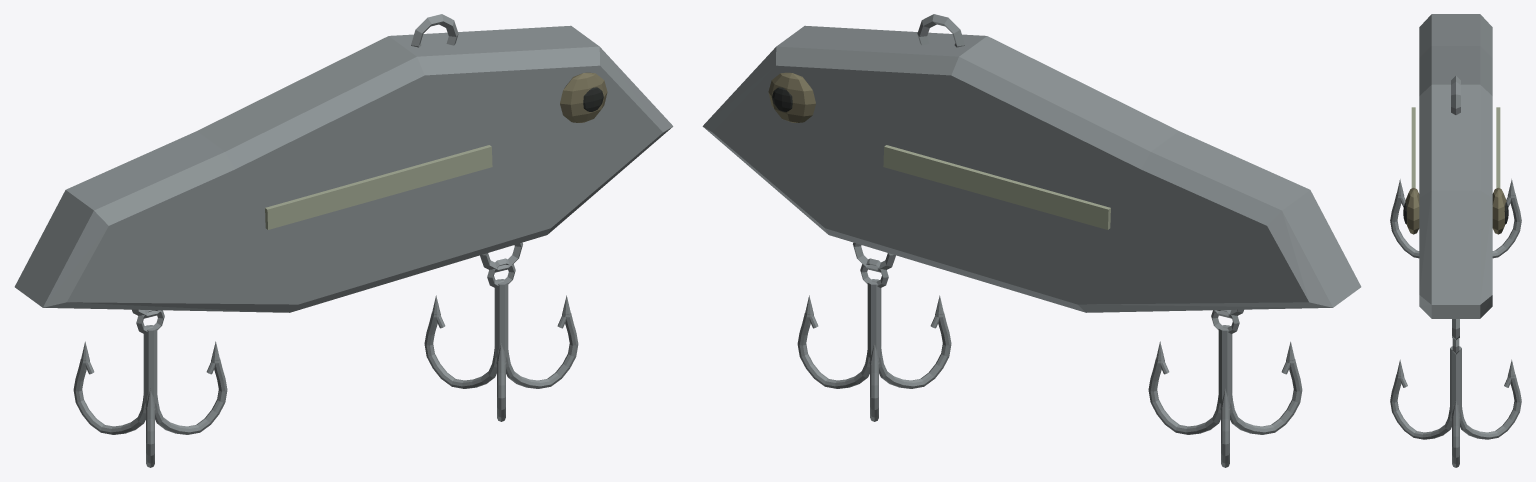
File: bait-lv3.glb
The picture shows the model from 3 angles, left to right: view 1: azimuth 30°, elevation 25°; view 2: azimuth 150°, elevation 25°; view 3: azimuth 270°, elevation 25°; orthographic projection. The views are drawn at different scales.
Visible parts, largest first — view 1: Metal_Vibration_Lure, Dormant_Luminous_Inlay, Hook_Bend (×4), Common_Shank (×2), Eye_Right, Dorsal_Line_Eye; view 2: Metal_Vibration_Lure, Dormant_Luminous_Inlay, Hook_Bend (×4), Common_Shank (×2), Eye_Left, Dorsal_Line_Eye; view 3: Metal_Vibration_Lure, Hook_Bend (×5), Dormant_Luminous_Inlay (×2), Common_Shank, Eye_Left, Eye_Right, Dorsal_Line_Eye, Belly_Treble_Split_Ring.
Boxes of the visible parts, x1=… form: Metal_Vibration_Lure: x1=14, y1=25, x2=673, y2=312; Dormant_Luminous_Inlay: x1=265, y1=145, x2=492, y2=229; Hook_Bend (×4): x1=73, y1=313, x2=578, y2=434; Common_Shank (×2): x1=143, y1=279, x2=508, y2=403; Eye_Right: x1=560, y1=72, x2=607, y2=122; Dorsal_Line_Eye: x1=411, y1=14, x2=458, y2=47; Metal_Vibration_Lure: x1=702, y1=25, x2=1361, y2=312; Dormant_Luminous_Inlay: x1=883, y1=145, x2=1110, y2=229; Hook_Bend (×4): x1=797, y1=313, x2=1302, y2=434; Common_Shank (×2): x1=867, y1=279, x2=1232, y2=403; Eye_Left: x1=768, y1=72, x2=815, y2=122; Dorsal_Line_Eye: x1=917, y1=14, x2=964, y2=47; Metal_Vibration_Lure: x1=1419, y1=14, x2=1492, y2=318; Hook_Bend (×5): x1=1390, y1=194, x2=1521, y2=467; Dormant_Luminous_Inlay (×2): x1=1411, y1=107, x2=1500, y2=188; Common_Shank: x1=1450, y1=346, x2=1461, y2=412; Eye_Left: x1=1492, y1=187, x2=1506, y2=234; Eye_Right: x1=1405, y1=187, x2=1419, y2=234; Dorsal_Line_Eye: x1=1451, y1=76, x2=1460, y2=114; Belly_Treble_Split_Ring: x1=1452, y1=319, x2=1459, y2=339.
Size of the model in its own units: 2 by 1.21 by 0.4228.
